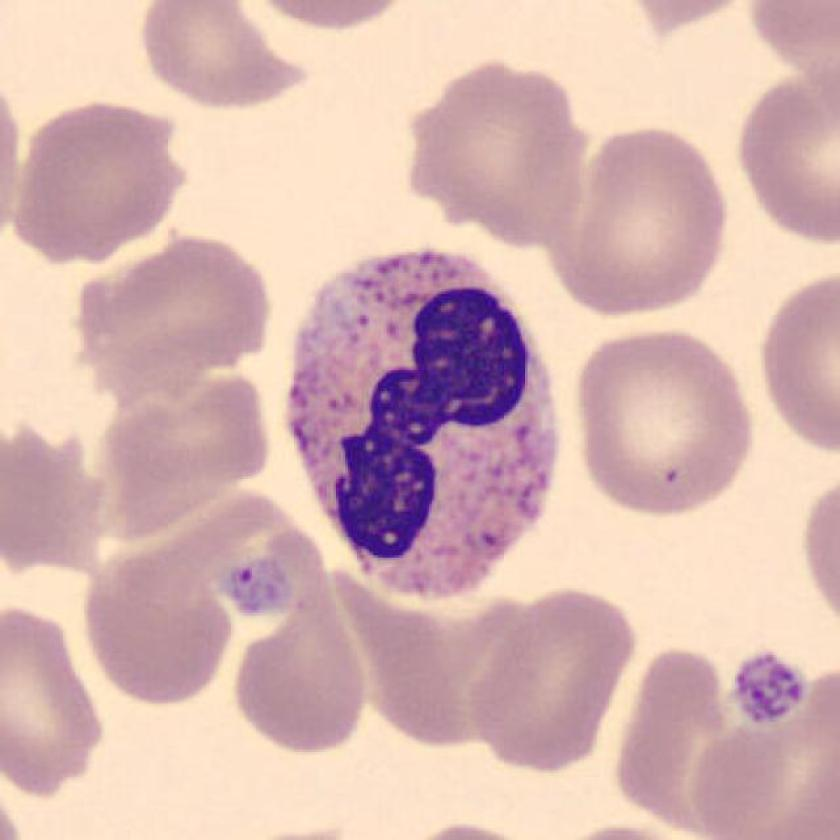neutrophil: (290, 253, 560, 596)
